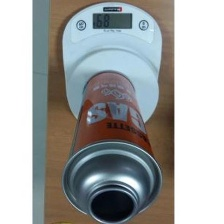aerosol_cans: (58, 63, 165, 223)
